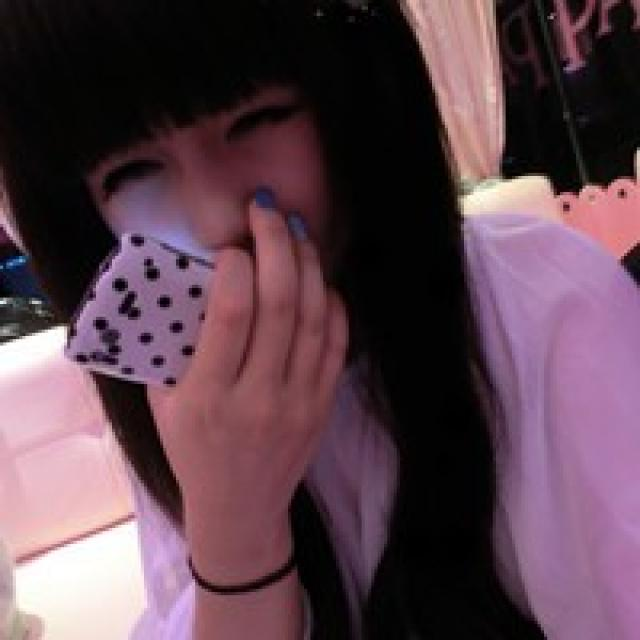nomask: (61, 24, 336, 373)
